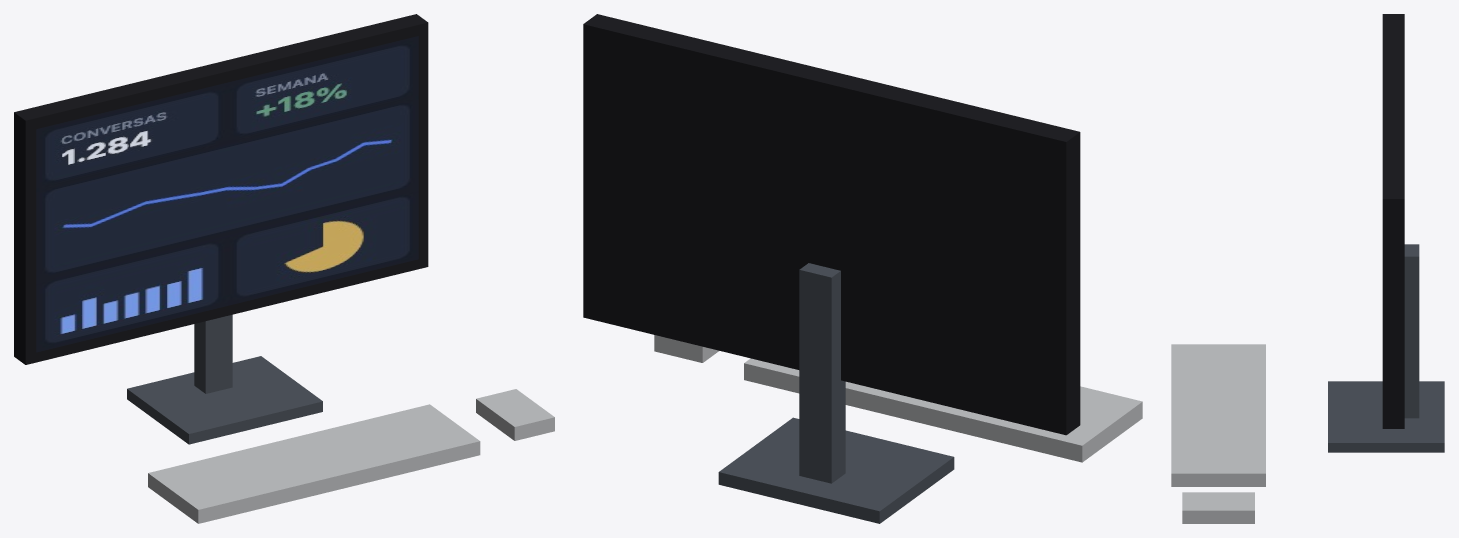
Rendered from monitor.glb.
The picture shows the model from 3 angles, left to right: view 1: azimuth 30°, elevation 25°; view 2: azimuth 150°, elevation 25°; view 3: azimuth 270°, elevation 25°; orthographic projection. The views are drawn at different scales.
Visible parts, largest first — view 1: monitor_malha; view 2: monitor_malha; view 3: monitor_malha.
Part boxes in pixels (x1=…): monitor_malha: x1=14, y1=14, x2=554, y2=523; monitor_malha: x1=583, y1=14, x2=1142, y2=523; monitor_malha: x1=1171, y1=14, x2=1444, y2=523.
Bounding box in the file's own units: 0.63 × 0.478 × 0.375.
Materials: 3 (1 with a texture image).
